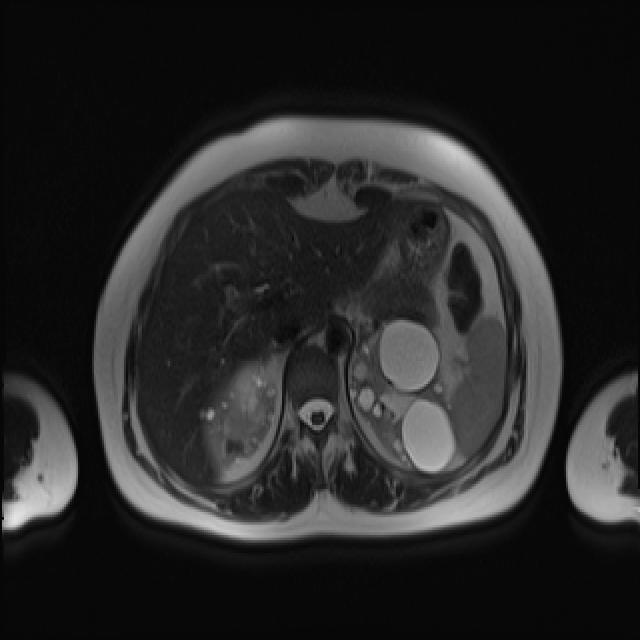sag: (200, 359, 279, 471)
sol: (351, 319, 460, 475)
